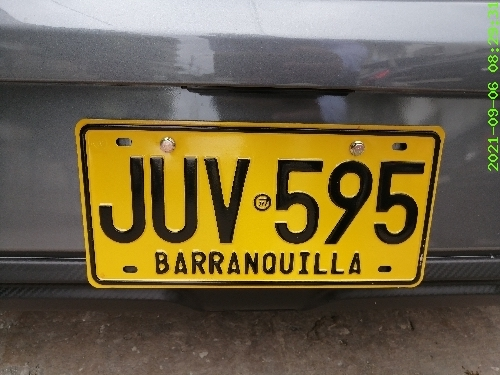number_plate: (78, 120, 442, 285)
